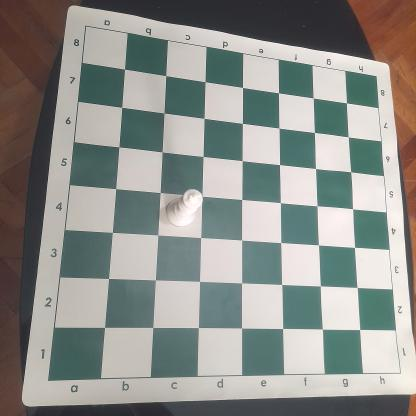white-king: (166, 188, 204, 228)
